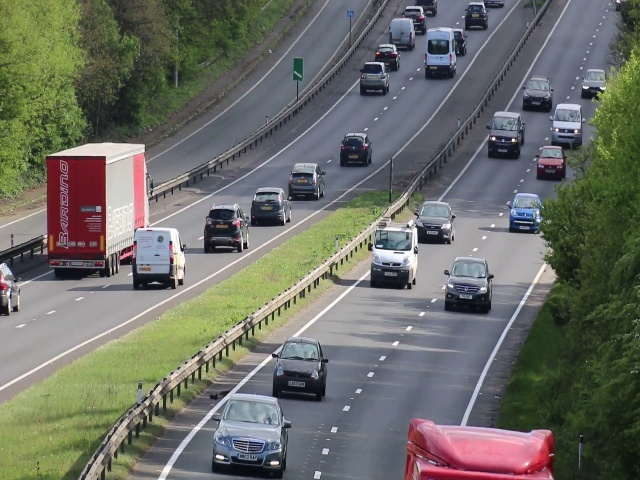car: (43, 147, 122, 282), (213, 391, 287, 475), (359, 227, 416, 292), (131, 226, 187, 291), (273, 338, 330, 392), (204, 203, 249, 254), (448, 258, 491, 309), (424, 25, 457, 78), (489, 110, 523, 159), (416, 199, 455, 240), (251, 188, 293, 226), (508, 191, 541, 235), (290, 163, 327, 199), (1, 258, 24, 315), (551, 106, 583, 145), (357, 61, 393, 95), (520, 74, 554, 109), (339, 132, 372, 165), (538, 143, 564, 181), (464, 1, 489, 29), (391, 18, 413, 49), (580, 69, 606, 93), (376, 43, 397, 62)
